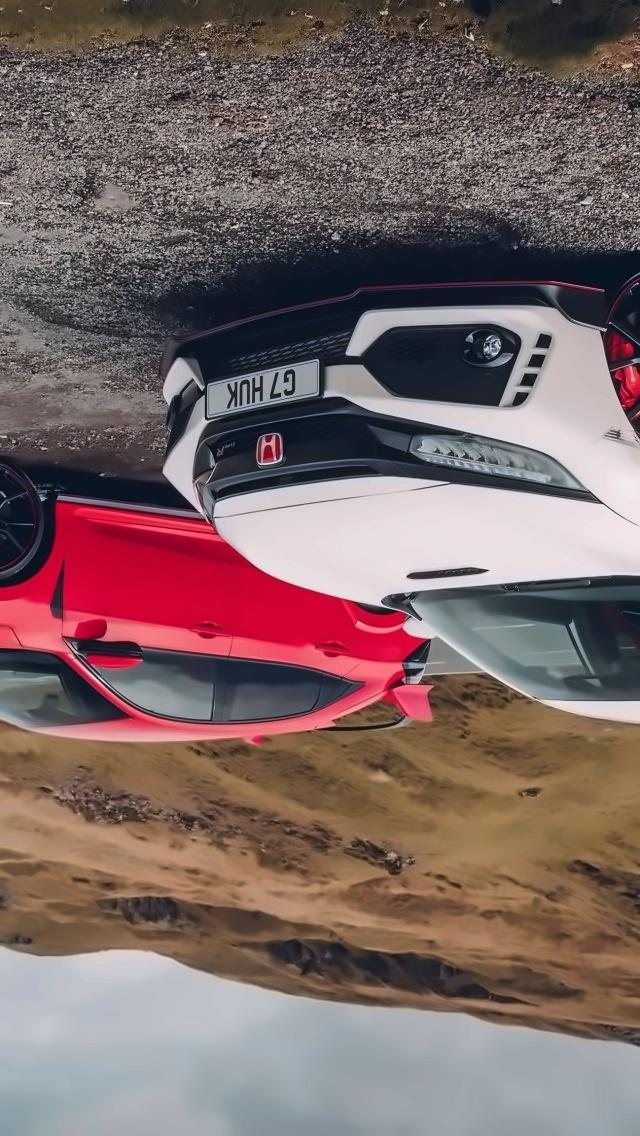Car hood: (206, 492, 640, 596)
Driver-s door - -F-R-: (42, 474, 234, 738)
Front bumper: (142, 284, 629, 468)
Headlight - -R-: (408, 428, 604, 507)
Passenger-s door - -R-R-: (212, 550, 361, 747)
Side bumper - -R-: (36, 480, 222, 557)
Side mirror - -R-: (58, 628, 144, 679)
